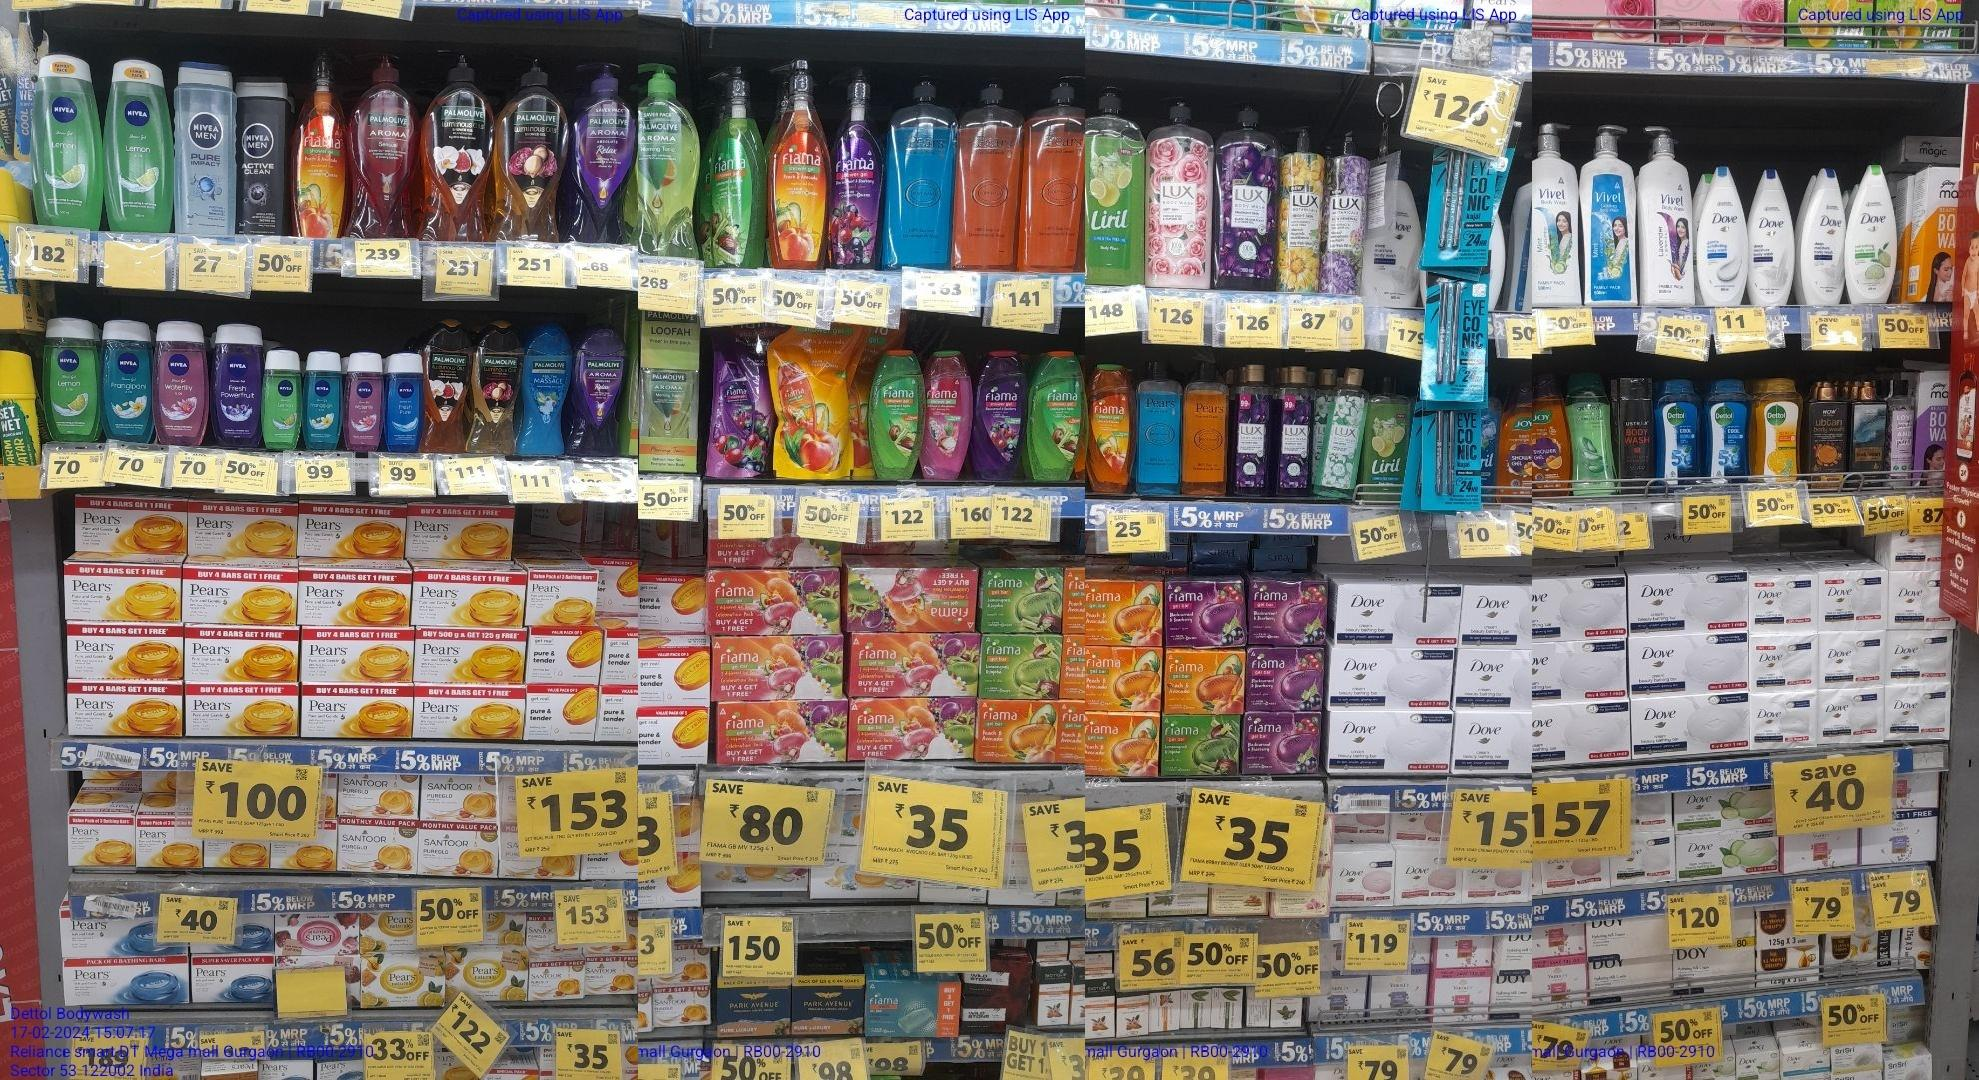Dettol_Bodywash_Cool: (1657, 382, 1702, 489), (1706, 375, 1744, 484)
Dettol_Bodywash_Refresh: (1748, 379, 1799, 484)
Dove_Deep_Moisture_Body_Wash_250ML: (1753, 168, 1797, 307), (1801, 169, 1846, 302)
Dove_Gentle_Exfoliating_Body_Wash_250ML: (1697, 169, 1752, 307)
Dove_Refreshing_Body_Wash_250ML: (1850, 165, 1899, 305)
Fiama_Shower_Gel_Lemongrass_and_Jojoba_250ML: (1023, 346, 1081, 481), (870, 346, 924, 476)
Fiama_Shower_Gel_Patchouli_and_Macadamia_250ML: (927, 346, 968, 481)
Fiama_Shower_Gel_Peach_and_Avocado_250ML: (1084, 358, 1133, 499)
Joy_Shower_Gel_Mandarin_and_Lemongrass_250ML: (1535, 375, 1571, 495)
Lux_Black_Orchid_Scent_and_Juniper_Oil_Body_Wash_245ML: (1233, 352, 1274, 489), (1277, 360, 1314, 496)
Lux_Body_Wash_Skin_Detox_Freesia_Scent_and_Alove_Vera_245ML: (1323, 359, 1366, 500)
Nivea_Shower_Gel_Frangipani_and_Oil_250ML: (104, 319, 154, 442)
Nivea_Shower_Gel_Lemon_and_Oil_250ML: (31, 55, 105, 227), (108, 52, 168, 227), (40, 307, 98, 442)
Nivea_Shower_Gel_Waterlily_and_Oil_250ML: (158, 323, 206, 451), (215, 327, 261, 447)
Palmolive_Aroma_Moments_Feel_The_Massage_Shower_Gel_250ML: (519, 325, 565, 456)
Palmolive_Aroma_Relax_250ML: (571, 326, 621, 459)
Palmolive_Luminous_Oils_Invigorating_Macadamia_Oil_With_Peony_250ML: (472, 321, 516, 456)
Palmolive_Luminous_Oils_With_White_Orchid_Shower_Gel_250ML: (424, 319, 468, 454)
Pears_Pure_Glycerin_and_Mint_Extracts_Body_Wash_250ML: (1137, 356, 1184, 496)
